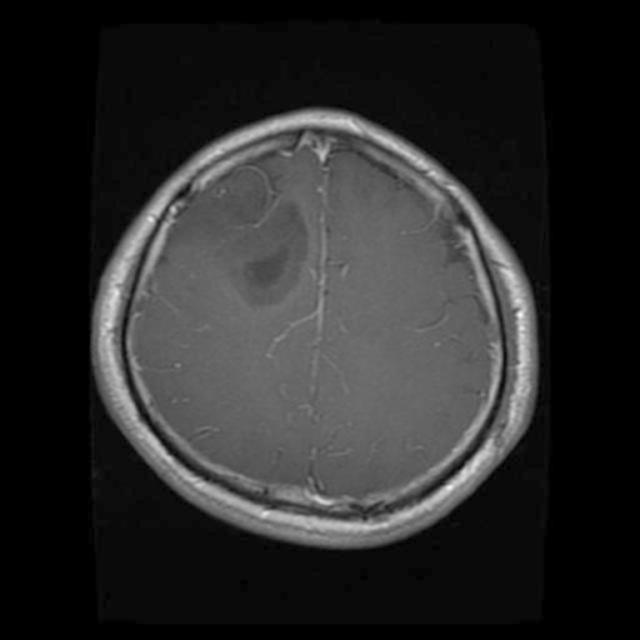pituitary tumor: (218, 202, 308, 308)
